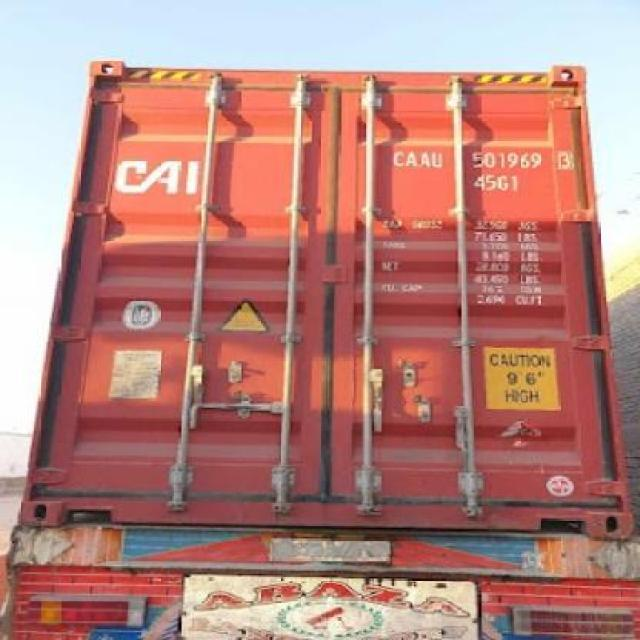ISO: (472, 175, 522, 192)
container_number: (398, 146, 568, 171)
